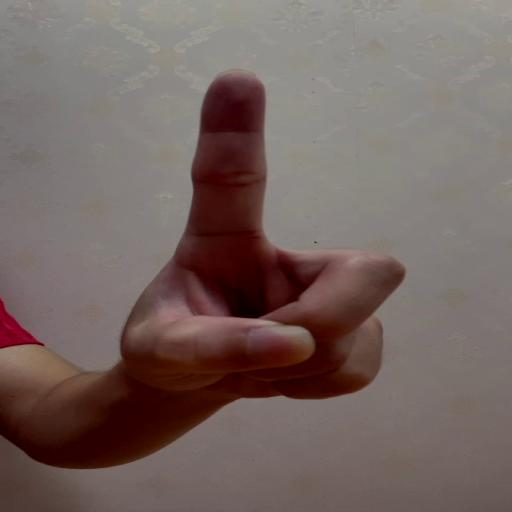point: (170, 66, 410, 402)
